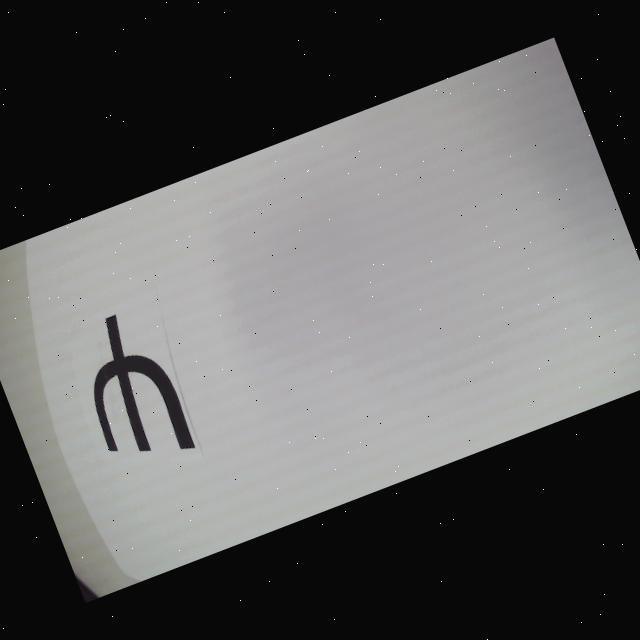PSI: (64, 304, 198, 478)
